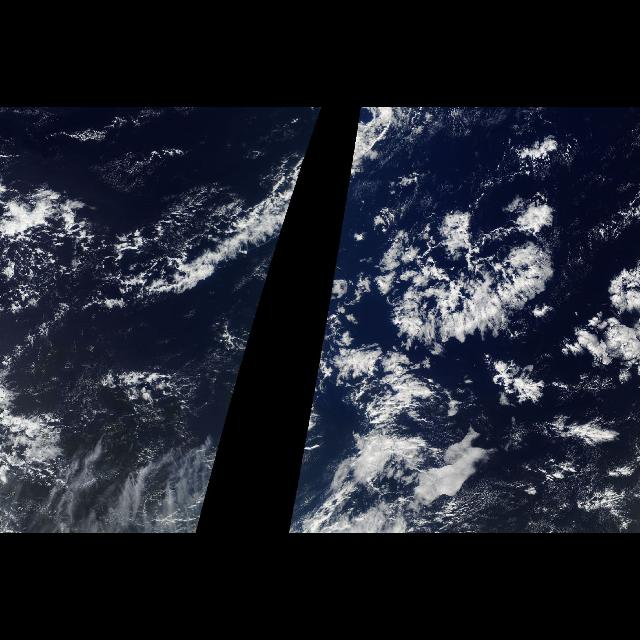Fish: (113, 189, 295, 303), (328, 220, 342, 302)
Flower: (364, 142, 640, 470)
